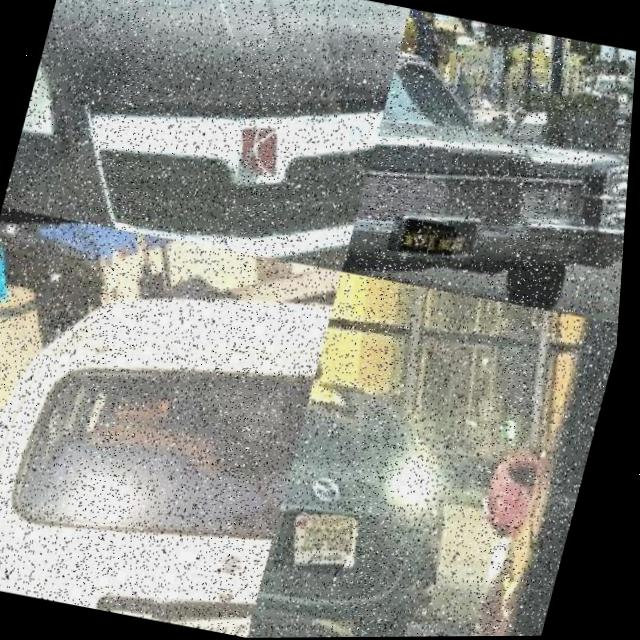LicensePlate: (156, 589, 264, 639), (288, 518, 354, 569), (391, 222, 461, 259)
